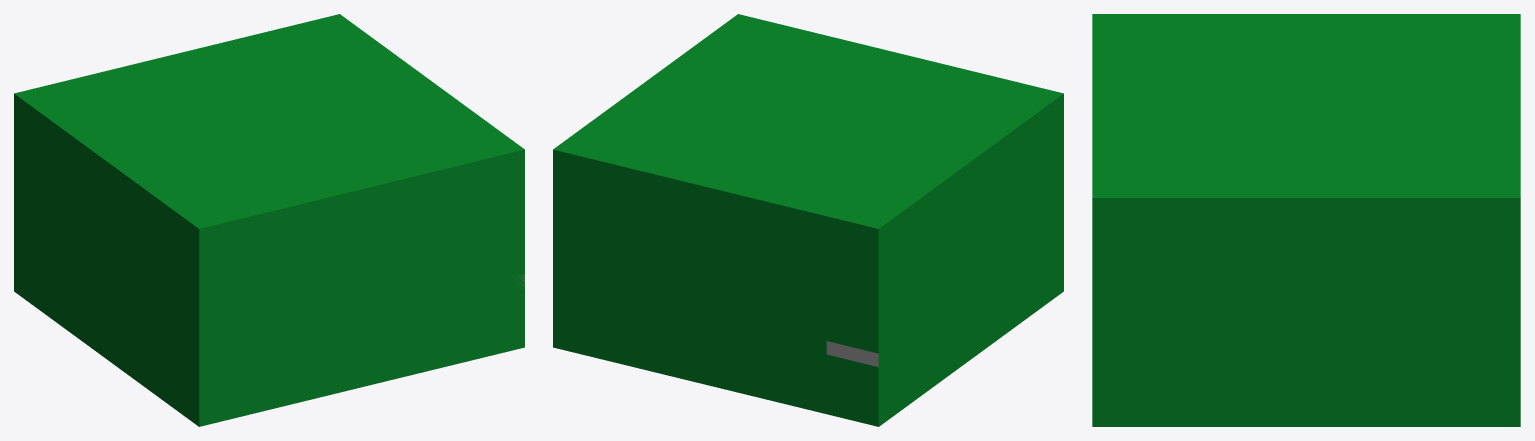
The model's file is PicnicTable_01.fbx.
The picture shows the model from 3 angles, left to right: view 1: azimuth 30°, elevation 25°; view 2: azimuth 150°, elevation 25°; view 3: azimuth 270°, elevation 25°; orthographic projection. The views are drawn at different scales.
Visible parts, largest first — view 1: COL_PicnicTable_01; view 2: COL_PicnicTable_01, PicnicTable_01; view 3: COL_PicnicTable_01.
Part boxes in pixels (x1,y1,x2,y2): COL_PicnicTable_01: (14, 14, 524, 426); COL_PicnicTable_01: (553, 14, 1063, 426); PicnicTable_01: (826, 341, 878, 366); COL_PicnicTable_01: (1092, 14, 1520, 426).
Size of the model in its own units: 67.71 by 39.31 by 66.65.
